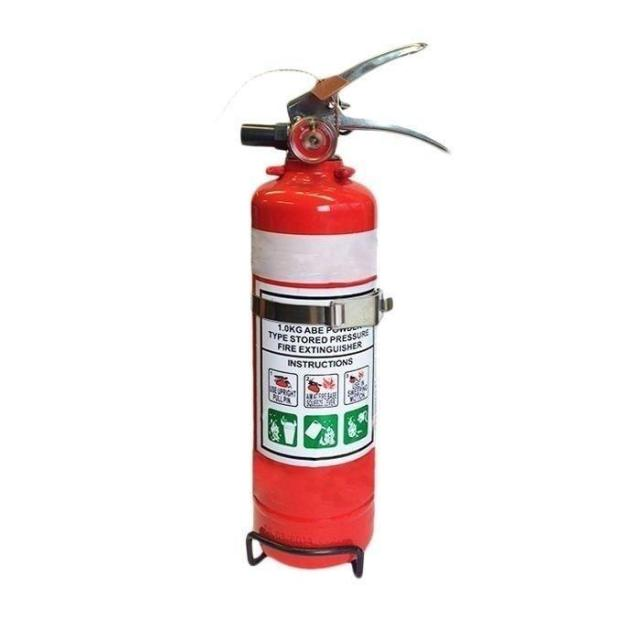fire_extinguisher: (226, 36, 456, 572)
